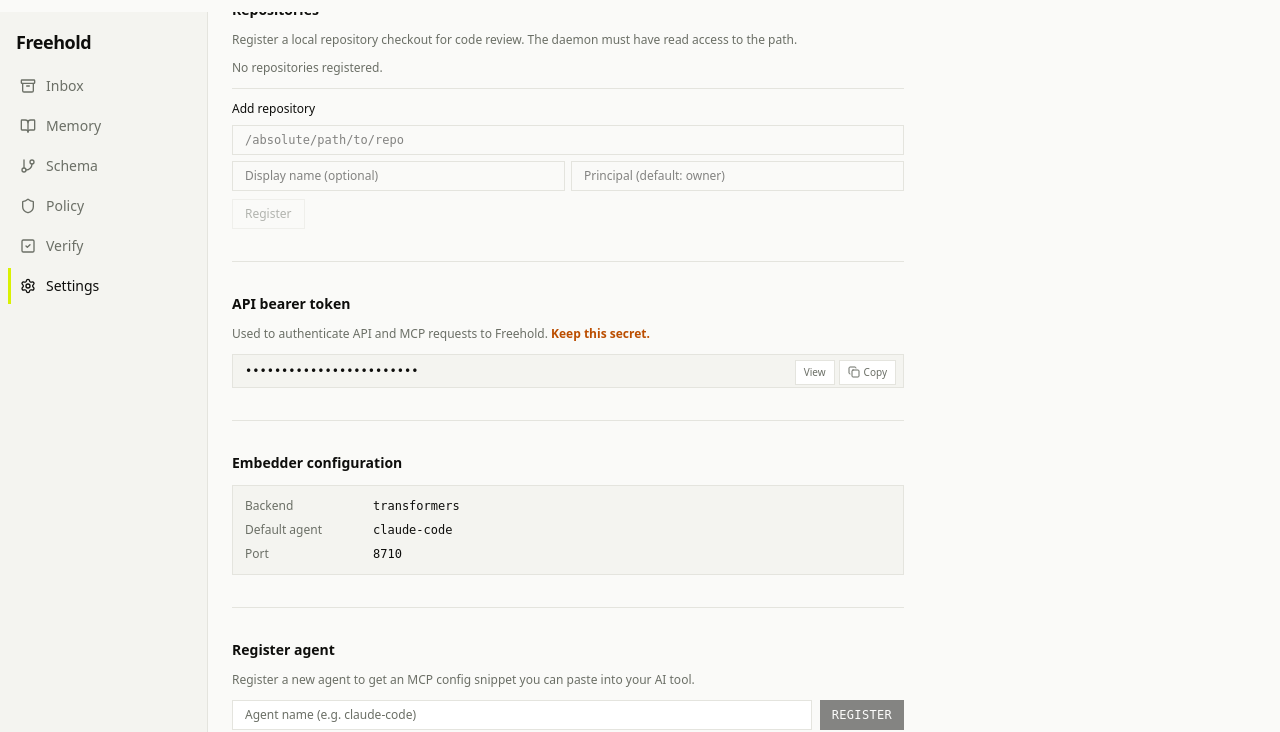
Test case: API token masking › Hide toggle re-masks the token after revealing it
(page scrolled)
Click the button with test id "token-visibility-toggle" at coordinates (815, 372), box [795, 360, 835, 384]
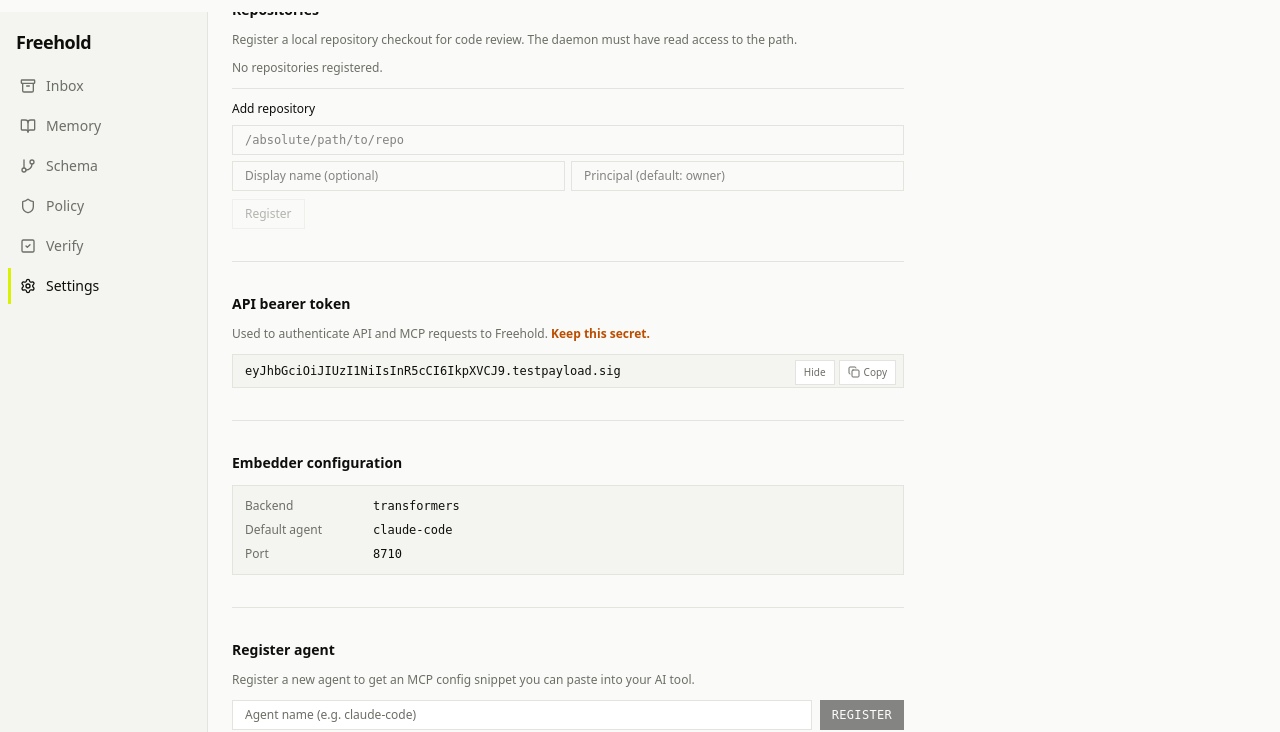
Now visible — click Hide
Click the button with test id "token-visibility-toggle" at coordinates (815, 372), box [795, 360, 835, 384]
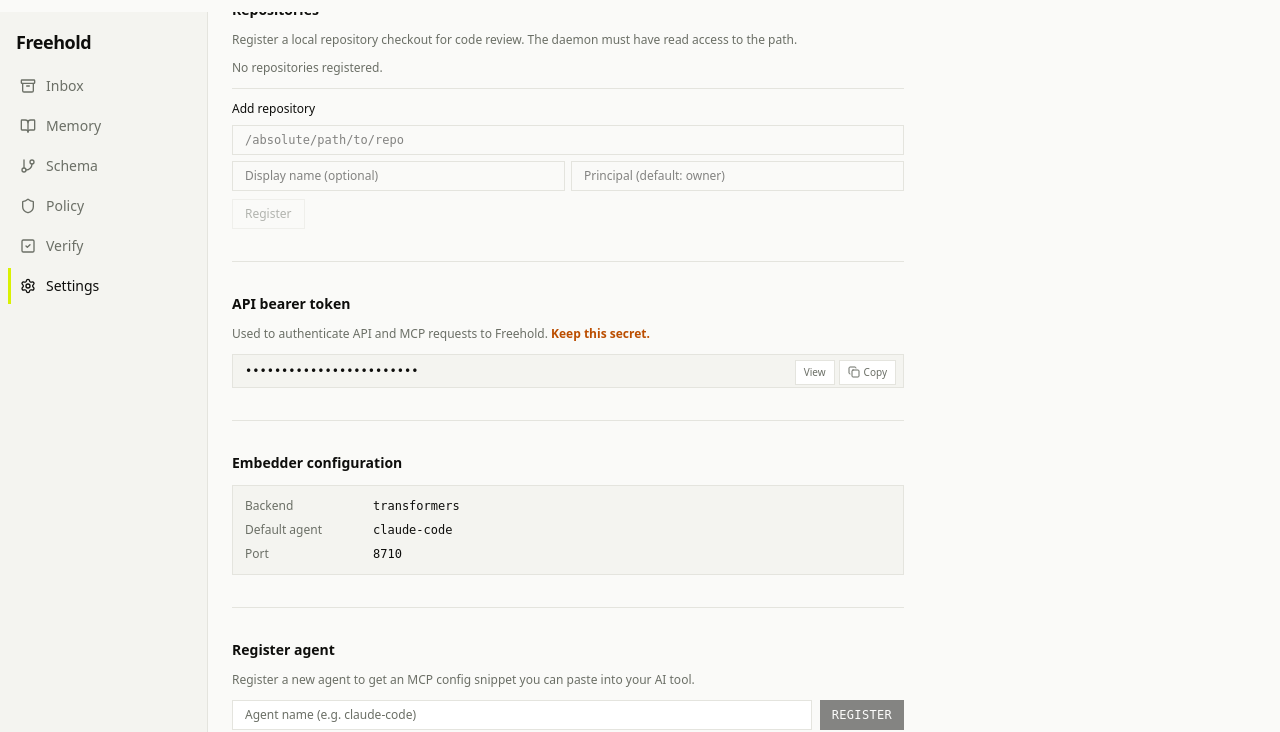
expect the text with test id "api-token-display" no longer shows "eyJhbGciOiJIUzI1NiIsInR5cCI6IkpXVCJ9.testpayload.sig": met, box [232, 354, 904, 388]
expect the text with test id "api-token-display" shows "••••": met, box [245, 364, 418, 378]
